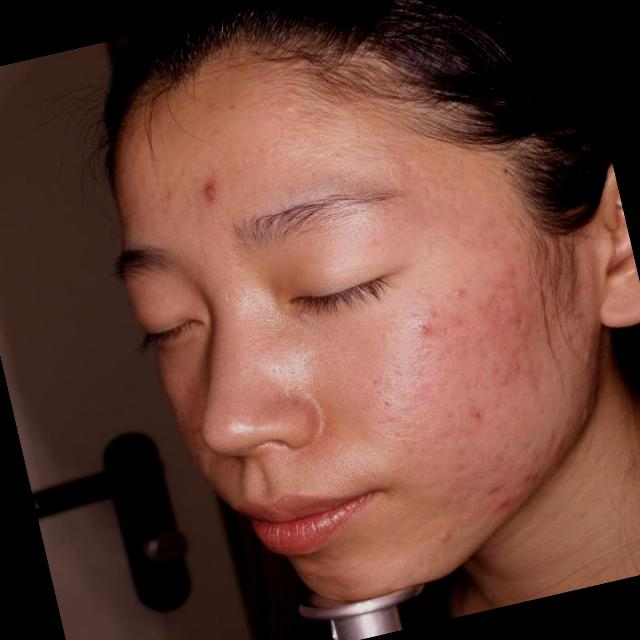acne: (452, 392, 497, 427), (402, 309, 444, 346), (511, 458, 556, 490), (472, 482, 503, 516), (196, 174, 224, 206), (441, 277, 479, 300)
